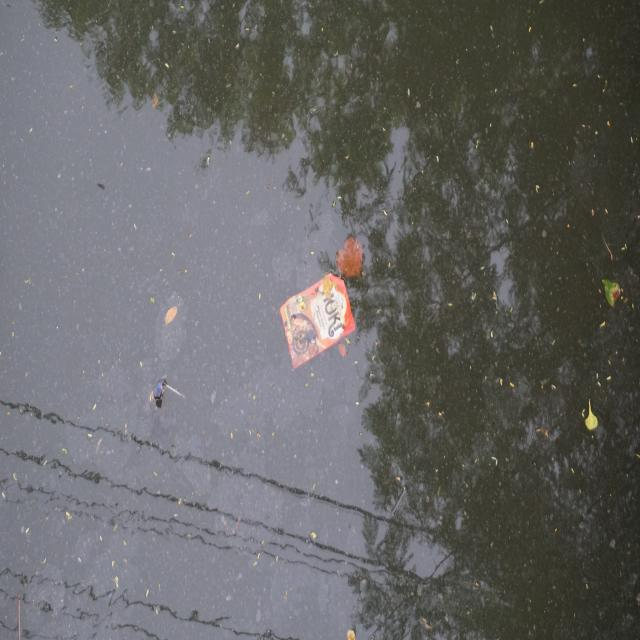Bungkus Makanan: (279, 268, 360, 367)
